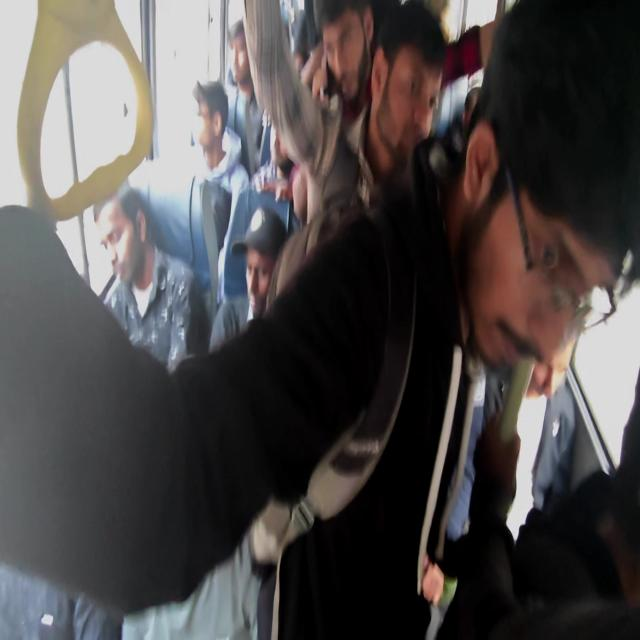person: (1, 1, 638, 637), (266, 2, 447, 309), (128, 78, 250, 304), (93, 184, 209, 374), (208, 204, 288, 354)
